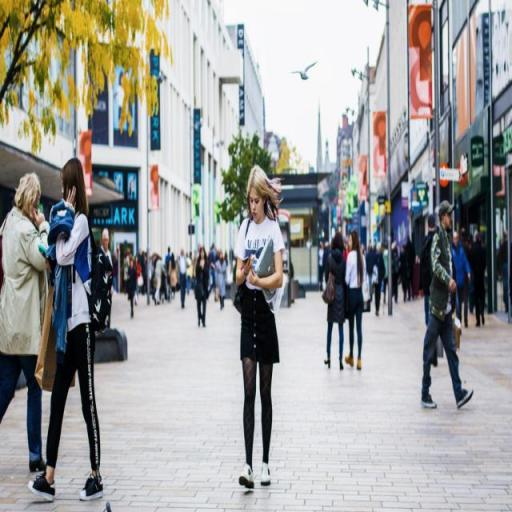person: (27, 157, 105, 504), (234, 163, 286, 492), (2, 174, 50, 476), (421, 200, 476, 413), (323, 232, 347, 373), (420, 210, 439, 372), (346, 229, 365, 374), (455, 228, 472, 339), (474, 229, 487, 330), (497, 228, 511, 314), (371, 239, 385, 320), (461, 228, 472, 331), (196, 246, 209, 331), (127, 255, 138, 322), (216, 251, 227, 314), (155, 255, 168, 307), (179, 248, 189, 315), (391, 243, 401, 308), (400, 243, 409, 306), (169, 254, 179, 302), (384, 242, 391, 303)
